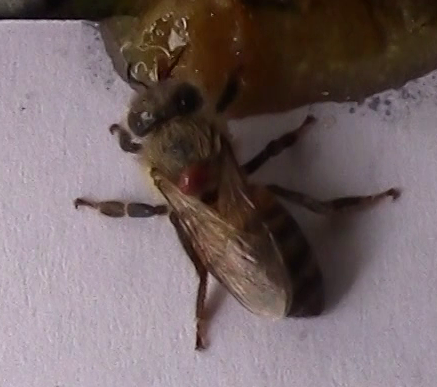Varroa destructor: (173, 157, 215, 198)
